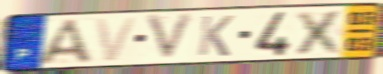4: (252, 9, 294, 58)
A: (34, 17, 96, 67)
K: (196, 14, 236, 58)
V: (144, 12, 198, 64), (93, 15, 141, 63)
X: (291, 8, 348, 56)
